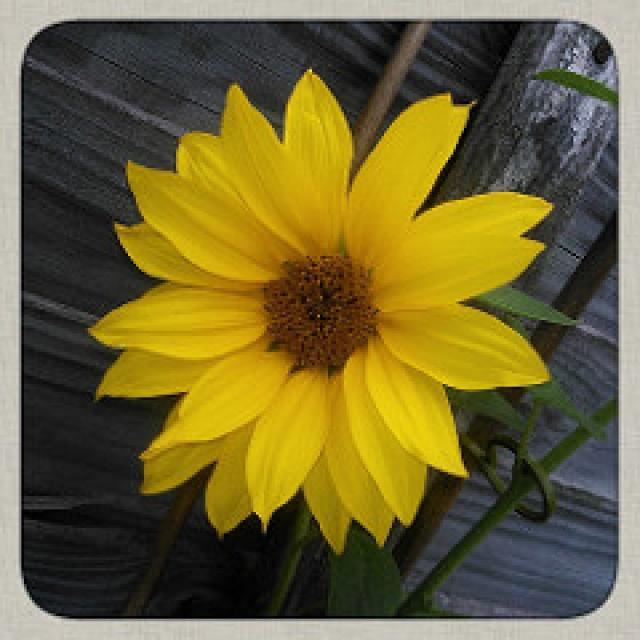sunflower: (81, 66, 541, 542)
